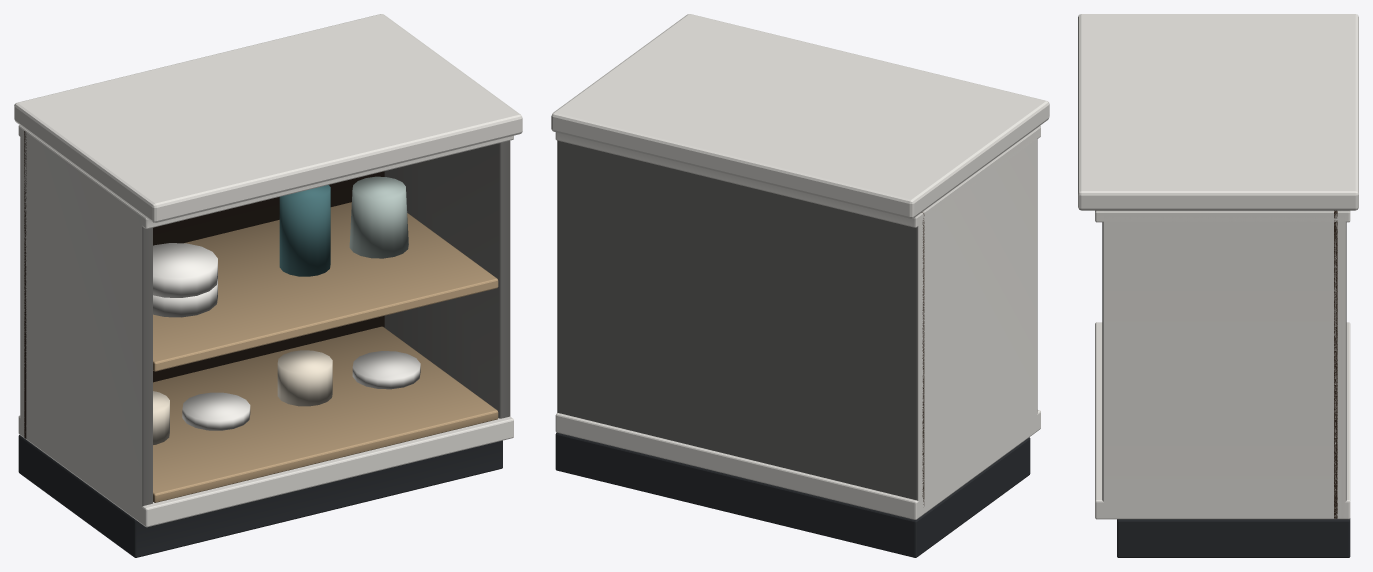
The model's file is counterOpenShelf.glb.
3 views of the same model, side by side, from view 1: azimuth 30°, elevation 25°; view 2: azimuth 150°, elevation 25°; view 3: azimuth 270°, elevation 25° (orthographic). The views are drawn at different scales.
Visible parts, largest first — view 1: body; view 2: body; view 3: body.
Part boxes in pixels (box(x1,y1,x2,y2)): body: box(14, 14, 522, 557); body: box(551, 14, 1049, 557); body: box(1078, 14, 1358, 557).
Size of the model in its own units: 1 by 0.95 by 0.66.
